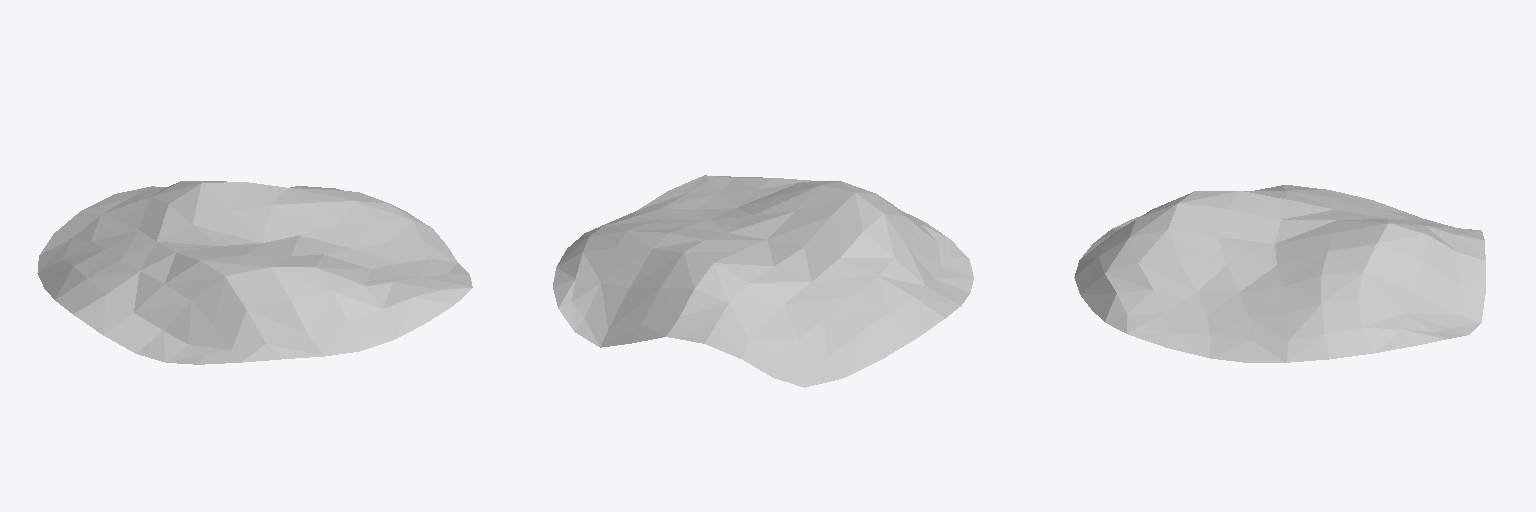
The model's file is WavyFloor.obj.
The picture shows the model from 3 angles: view 1: azimuth 30°, elevation 25°; view 2: azimuth 150°, elevation 25°; view 3: azimuth 270°, elevation 25°; orthographic projection.
Visible parts, largest first — view 1: Cube1; view 2: Cube1; view 3: Cube1.
Part boxes in pixels (x1,y1,x2,y2): Cube1: (37, 181, 472, 364); Cube1: (553, 175, 973, 387); Cube1: (1074, 185, 1485, 362).
Bounding box in the file's own units: 1.44 × 0.266 × 1.42.